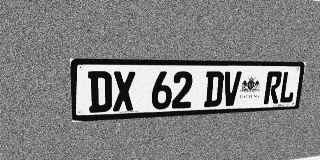2: (172, 71, 193, 109)
6: (151, 71, 173, 110)
D: (88, 71, 112, 113), (204, 71, 224, 107)
L: (278, 71, 297, 103)
R: (263, 71, 283, 104)
V: (221, 71, 242, 106)
X: (113, 71, 135, 112)
